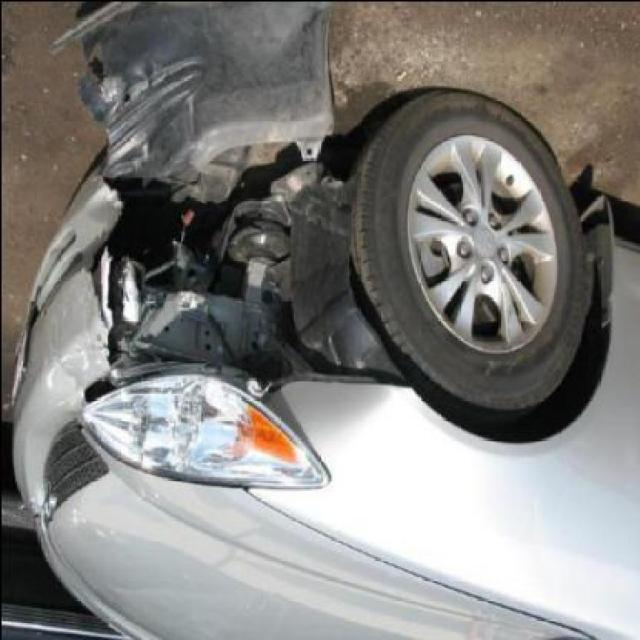damage: (49, 6, 412, 402)
